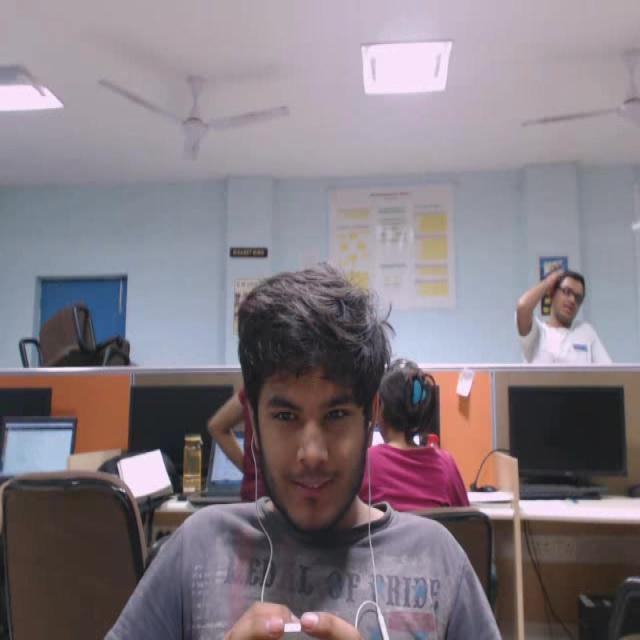Engaged: (219, 232, 455, 578)
